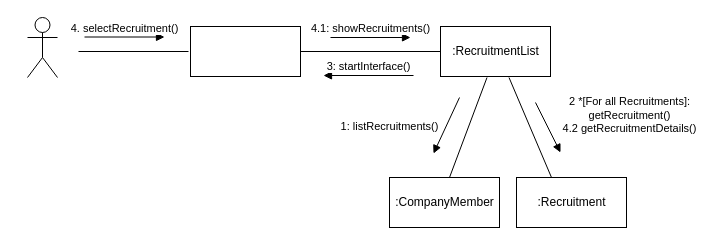
The diagram is 714 pixels wide and 245 high, and some of its shapes have lost their labels. Each missing label, with the centre of its shape:
":RecuritmentListUI" belongs at point (245, 51).
"Company Member" belongs at point (42, 47).
